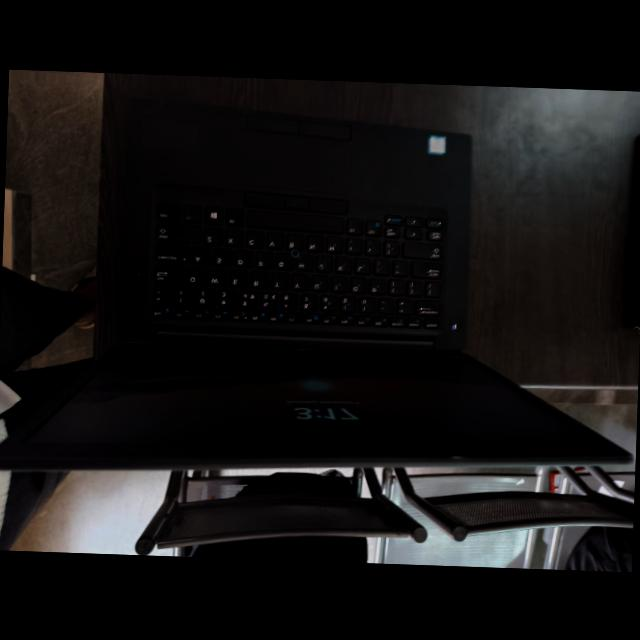laptop: (0, 97, 631, 469)
